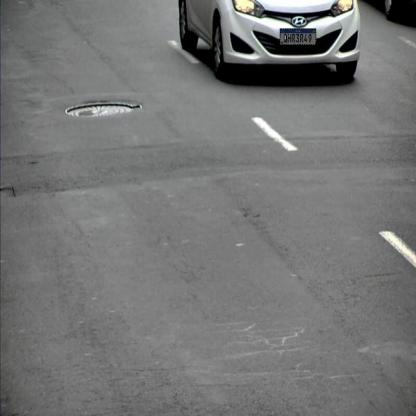PlacaM: (280, 28, 316, 45)
